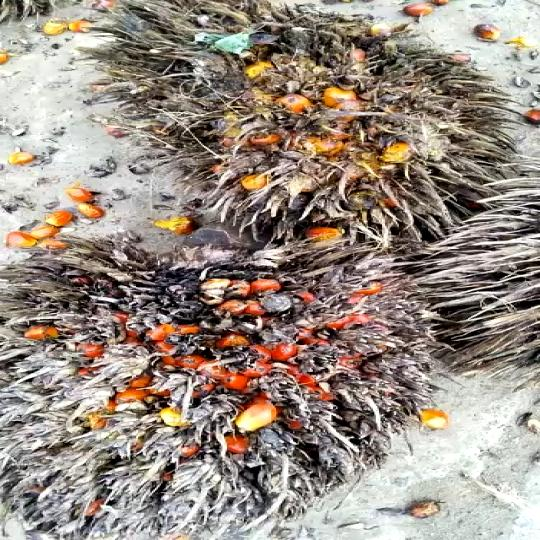terlalu masak: (0, 253, 439, 537), (85, 6, 502, 246)
